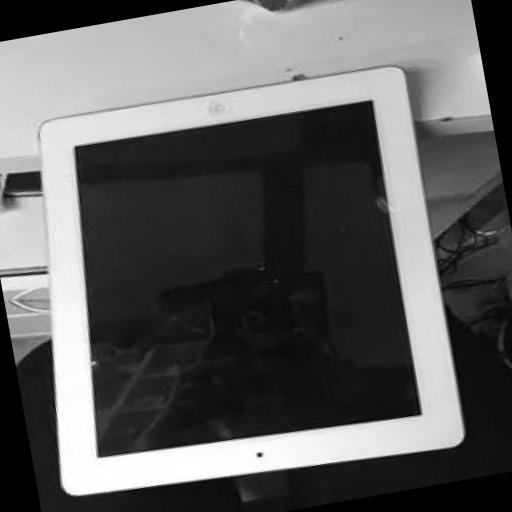phone: (40, 67, 462, 494)
